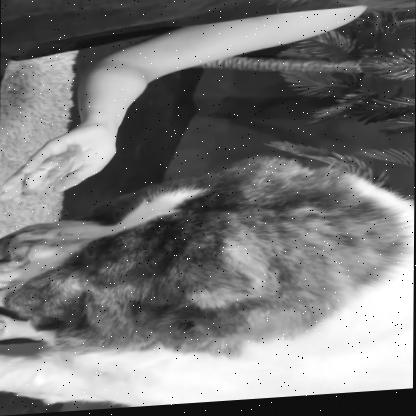streamer: (0, 0, 416, 204)
